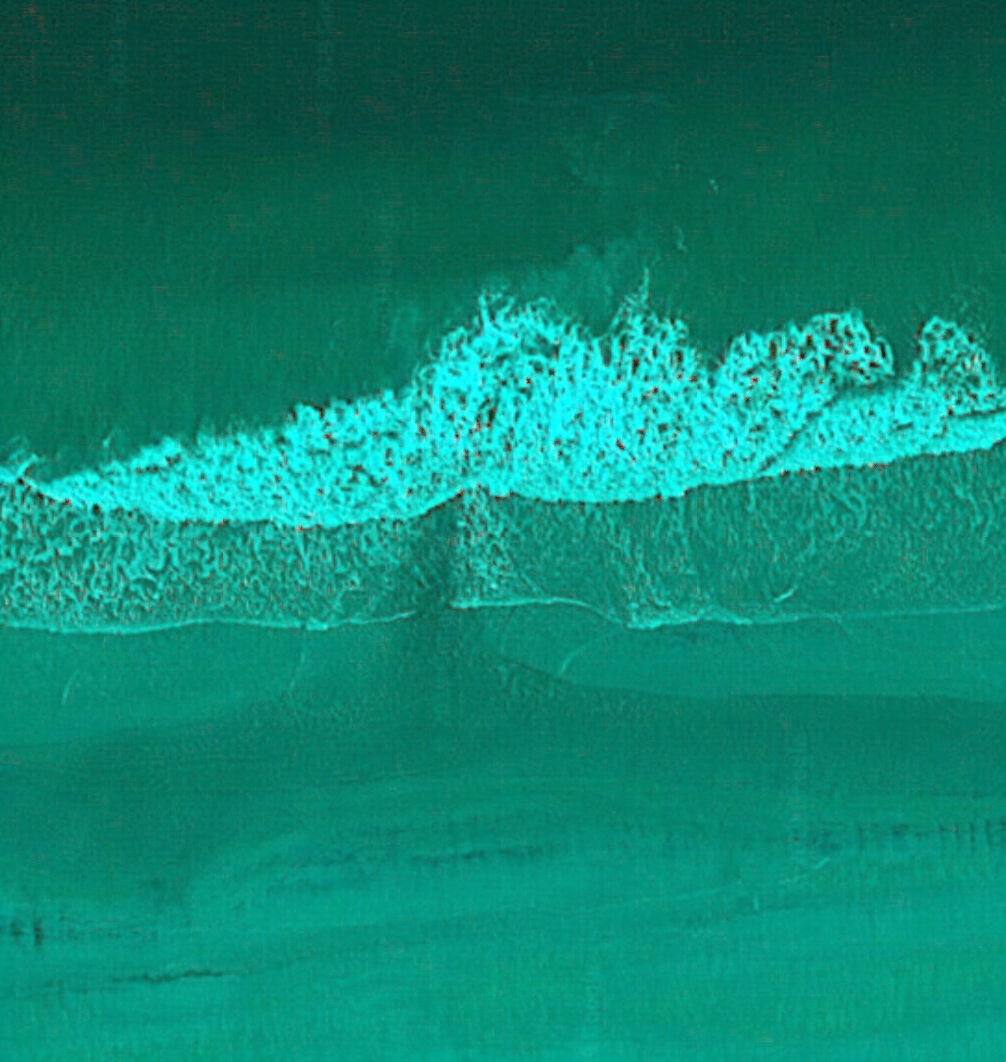rip_current: (329, 300, 545, 667)
